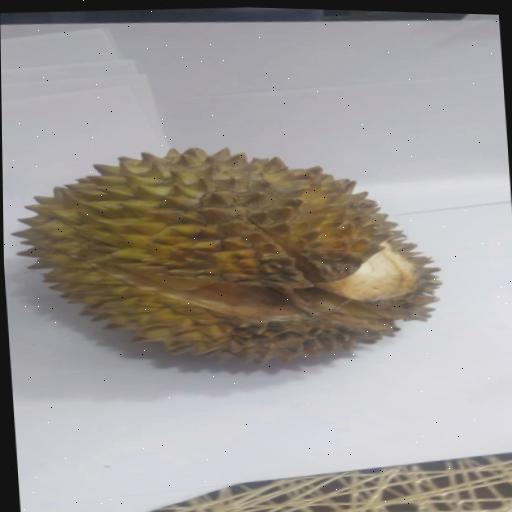rot: (2, 117, 467, 396)
